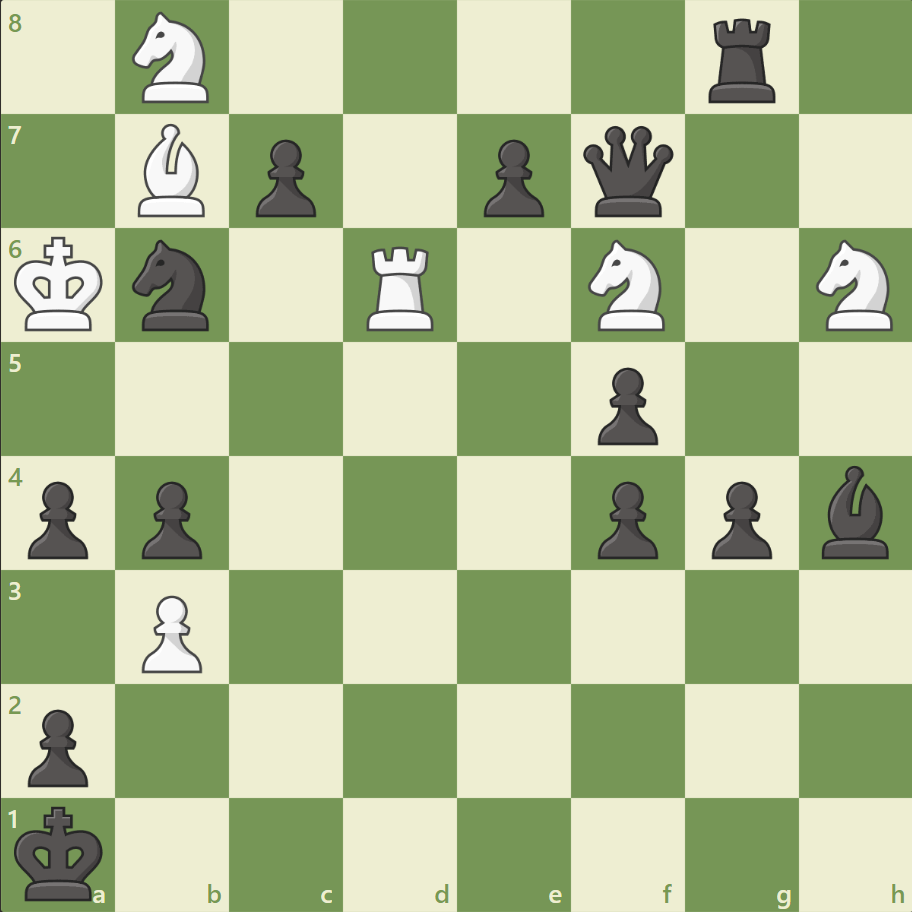B: (131, 120, 215, 222)
K: (11, 231, 111, 339)
N: (124, 7, 222, 110), (579, 234, 676, 337), (806, 234, 903, 337)
P: (133, 586, 208, 677)
R: (360, 239, 442, 336)
b: (812, 460, 896, 563)
k: (11, 798, 111, 906)
n: (124, 234, 222, 337)
p: (247, 132, 322, 223), (474, 132, 549, 223), (20, 473, 95, 564), (133, 473, 208, 564), (701, 473, 776, 564), (20, 700, 95, 791), (588, 359, 662, 450), (588, 473, 662, 564)
q: (578, 122, 677, 222)
r: (700, 12, 783, 109)
